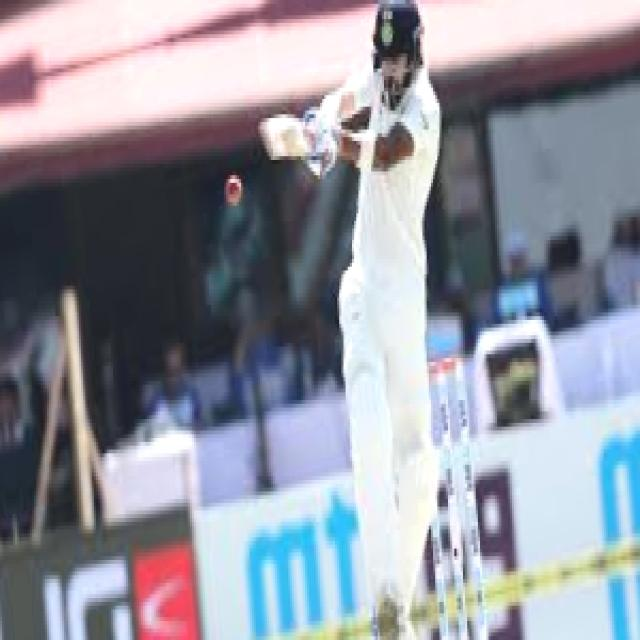toe: (256, 119, 274, 164)
